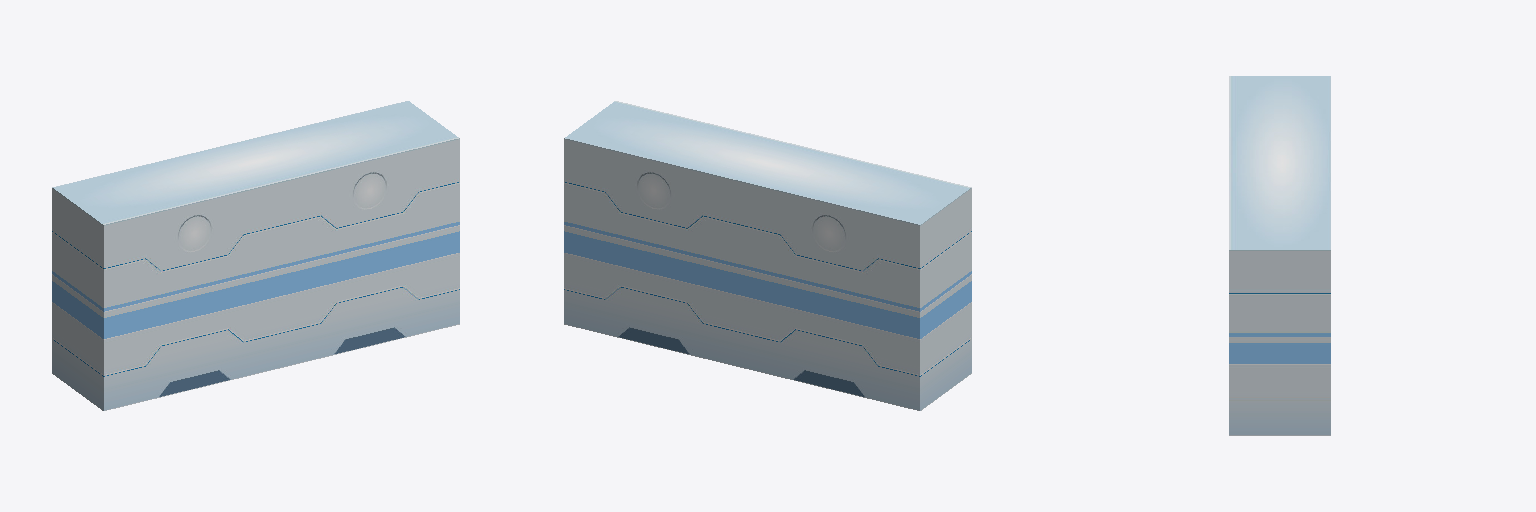
3 views of the same model, side by side, from view 1: azimuth 30°, elevation 25°; view 2: azimuth 150°, elevation 25°; view 3: azimuth 270°, elevation 25° (orthographic).
Visible parts, largest first — view 1: mesh01; view 2: mesh01; view 3: mesh01.
Part boxes in pixels (x1,y1,x2,y2): mesh01: (52,101,459,410); mesh01: (564,101,971,410); mesh01: (1229,76,1330,435).
Size of the model in its own units: 80 by 40 by 20.
Materials: 1 (1 with a texture image).